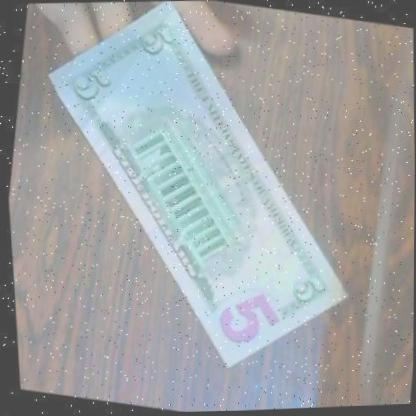five-back: (0, 0, 398, 402)
